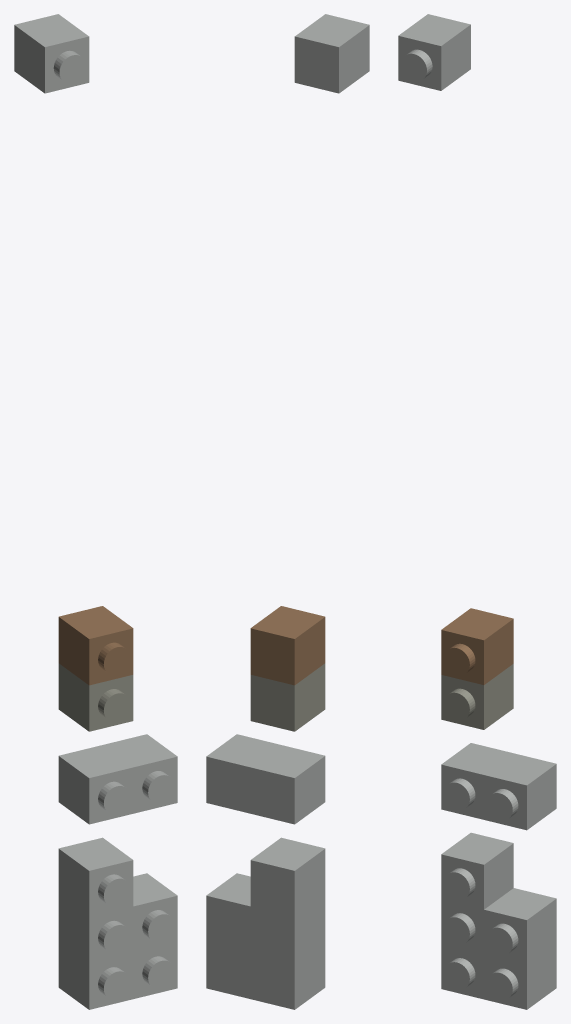
The model's file is current.glb.
The picture shows the model from 3 angles, left to right: view 1: azimuth 30°, elevation 25°; view 2: azimuth 150°, elevation 25°; view 3: azimuth 330°, elevation 25°; orthographic projection. The views are drawn at different scales.
Visible parts, largest first — view 1: world; view 2: world; view 3: world.
Part boxes in pixels (x1,y1,x2,y2): world: [14, 14, 177, 1009]; world: [206, 14, 369, 1009]; world: [398, 14, 556, 1009].
Size of the model in its own units: 24 by 168 by 11.4.
